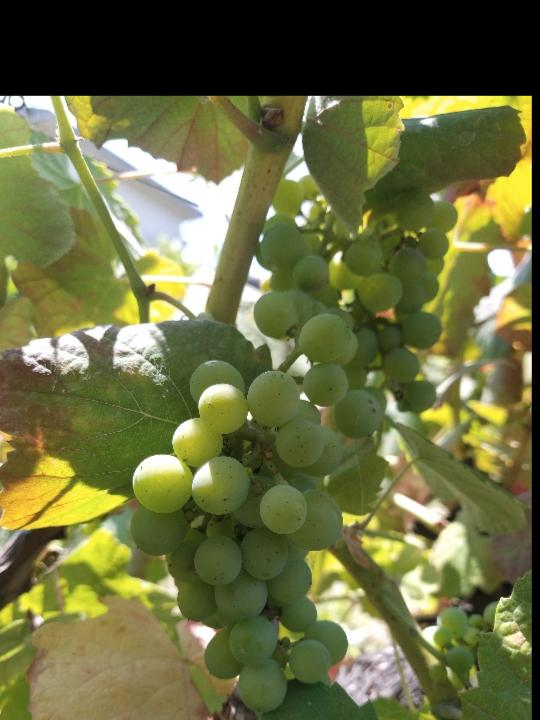grape: (129, 313, 385, 717)
